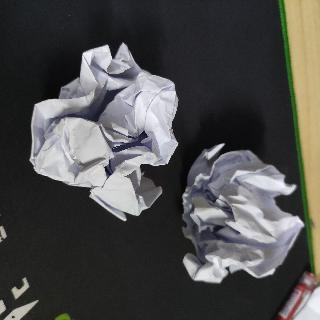8/可回收垃圾/纸: (29, 41, 180, 222), (181, 143, 306, 284)
